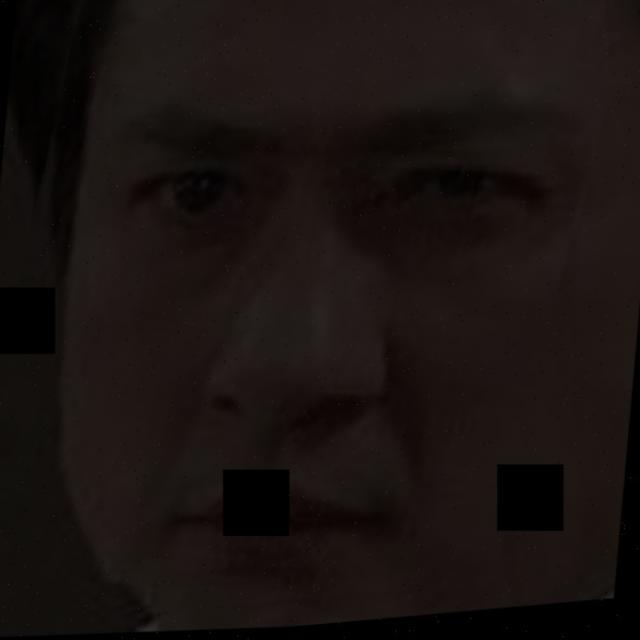angry: (69, 39, 640, 623)
